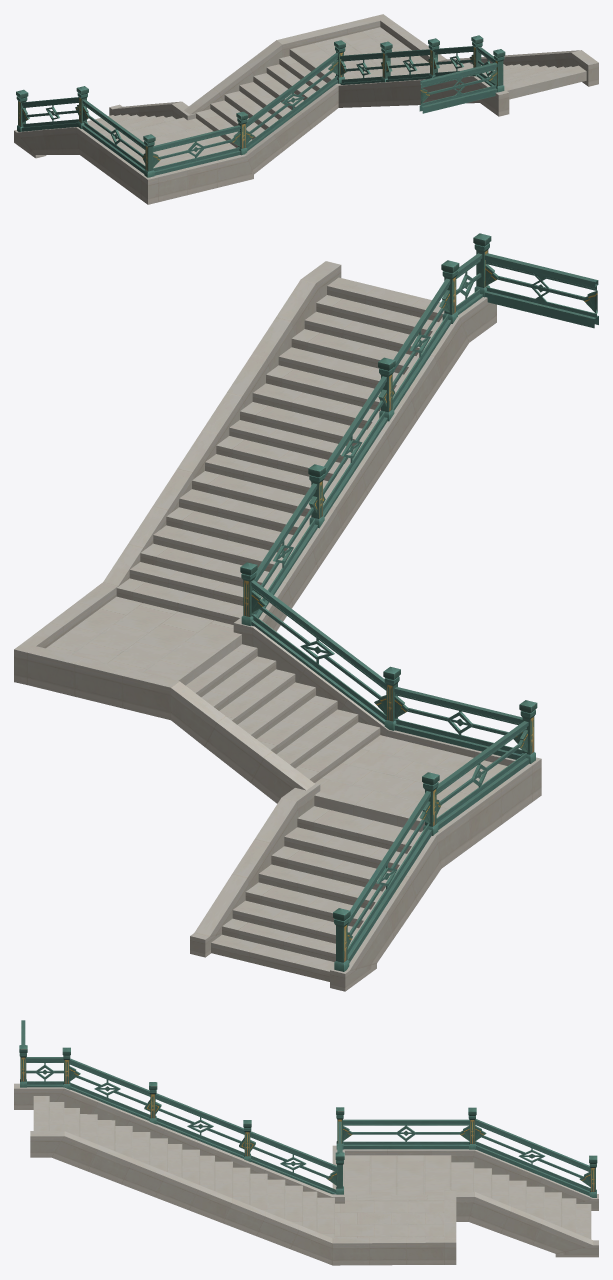
The model's file is Homeworld_Interior_Fd_Room_F_Stair_01_Vo.fbx.
3 renders of one model, top to bottom at view 1: azimuth 30°, elevation 25°; view 2: azimuth 150°, elevation 25°; view 3: azimuth 270°, elevation 25°, orthographic. The views are drawn at different scales.
Parts seen in each view (by area): view 1: Homeworld_Interior_Fd_Room_F_Stair_01_Vo; view 2: Homeworld_Interior_Fd_Room_F_Stair_01_Vo; view 3: Homeworld_Interior_Fd_Room_F_Stair_01_Vo.
Boxes of the visible parts, x1,y1,x2,y2 form: Homeworld_Interior_Fd_Room_F_Stair_01_Vo: (14,14,598,204); Homeworld_Interior_Fd_Room_F_Stair_01_Vo: (14,233,598,991); Homeworld_Interior_Fd_Room_F_Stair_01_Vo: (14,1020,598,1265).
Size of the model in its own units: 7.73 by 6.35 by 13.17.
